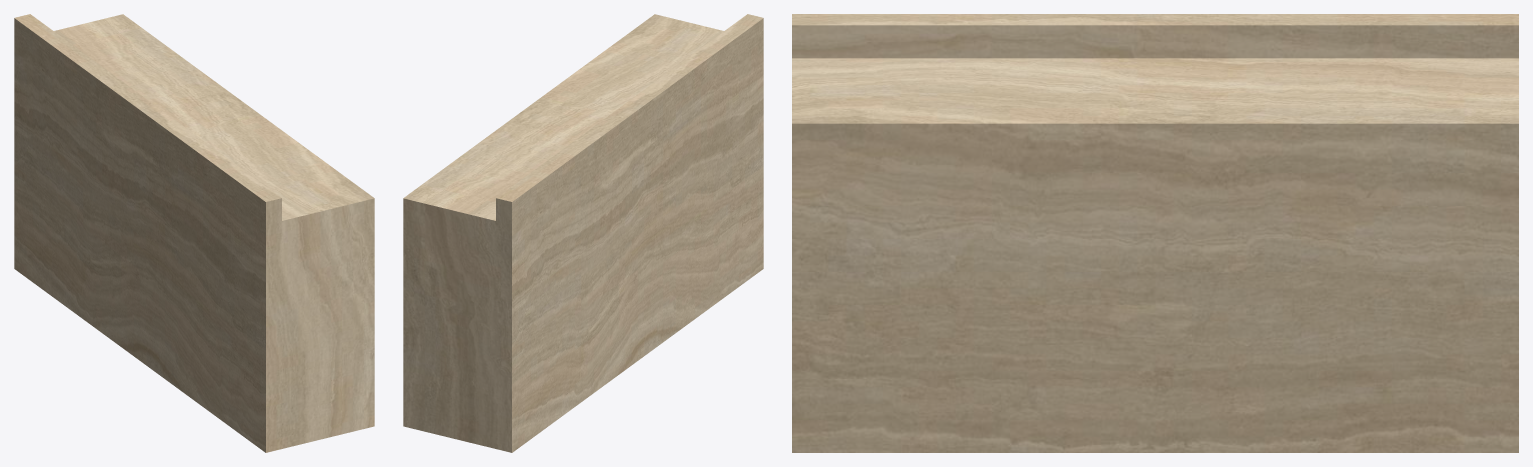
Rendered from shelf.glb.
3 renders of one model, left to right at view 1: azimuth 30°, elevation 25°; view 2: azimuth 150°, elevation 25°; view 3: azimuth 270°, elevation 25°, orthographic. The views are drawn at different scales.
Parts seen in each view (by area): view 1: shelf; view 2: shelf; view 3: shelf.
Boxes of the visible parts, x1,y1,x2,y2 form: shelf: (14,14,374,452); shelf: (403,14,763,452); shelf: (792,14,1518,452).
Size of the model in its own units: 1 by 2.2 by 4.
Materials: 1 (1 with a texture image).
